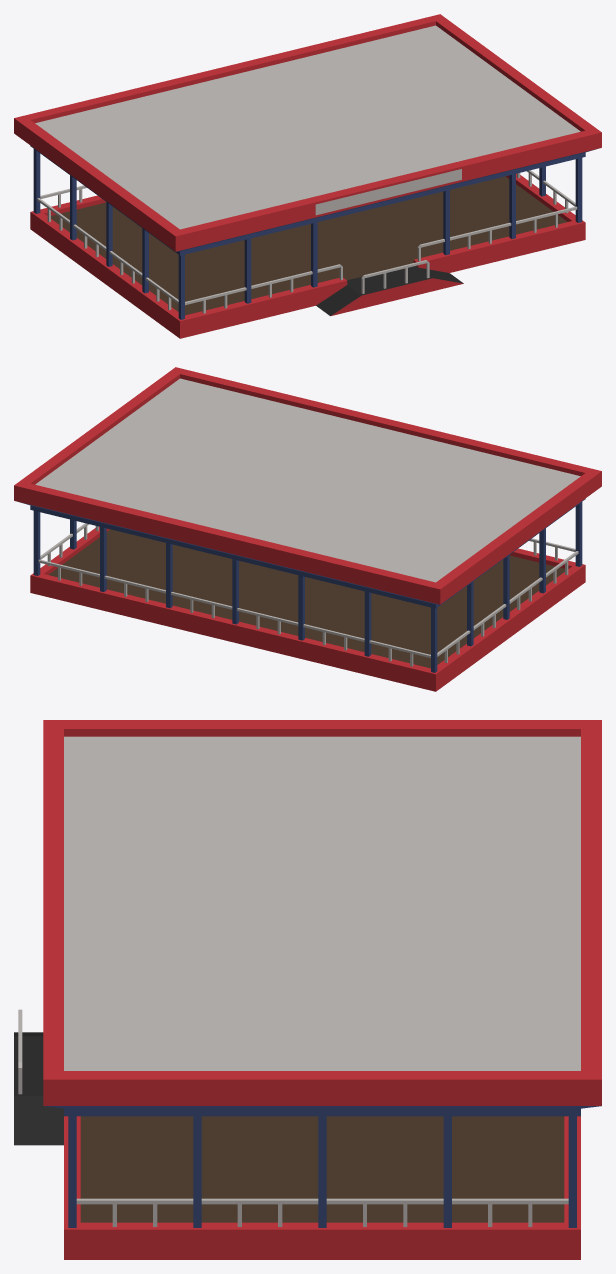
File: amusement-park-bumper-cars-booth.glb
3 renders of one model, top to bottom at view 1: azimuth 30°, elevation 25°; view 2: azimuth 150°, elevation 25°; view 3: azimuth 270°, elevation 25°, orthographic. The views are drawn at different scales.
Visible parts, largest first — view 1: bumper-cars-booth; view 2: bumper-cars-booth; view 3: bumper-cars-booth.
Part boxes in pixels (box(x1,y1,x2,y2)): bumper-cars-booth: box(14, 14, 601, 338); bumper-cars-booth: box(14, 367, 601, 691); bumper-cars-booth: box(14, 720, 601, 1259).
Size of the model in its own units: 20.4 by 5 by 14.1.
